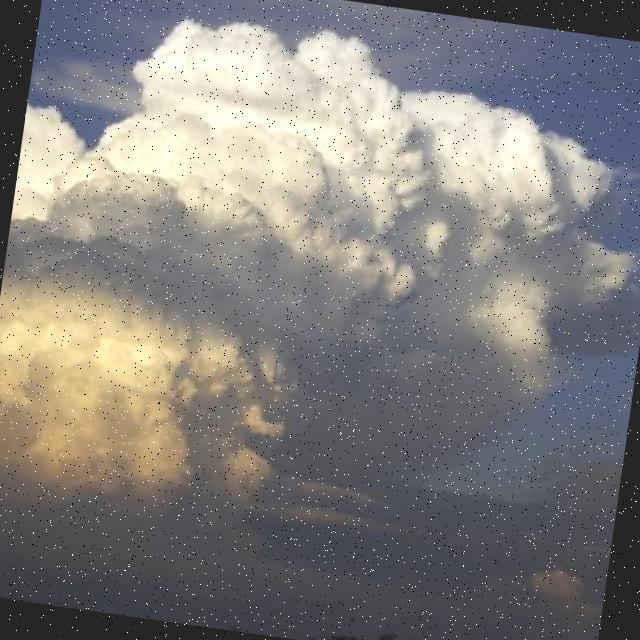Cb: (1, 1, 640, 581)
